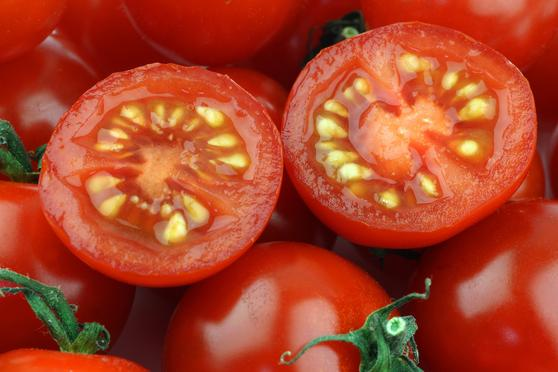tomato: (165, 239, 416, 372)
